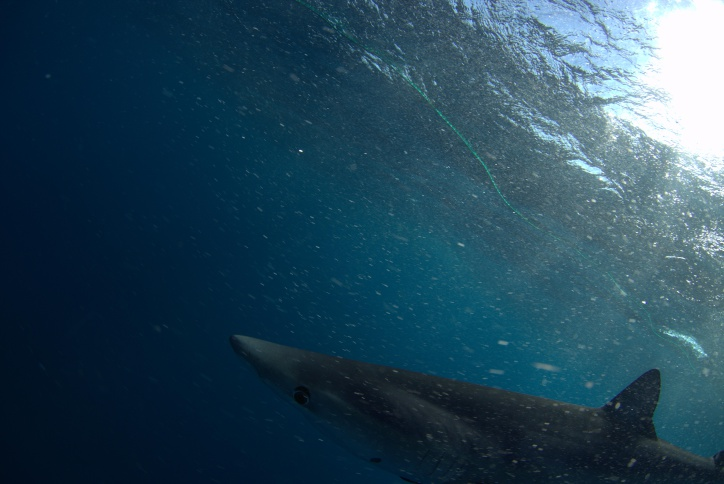Azul: (214, 319, 724, 480)
